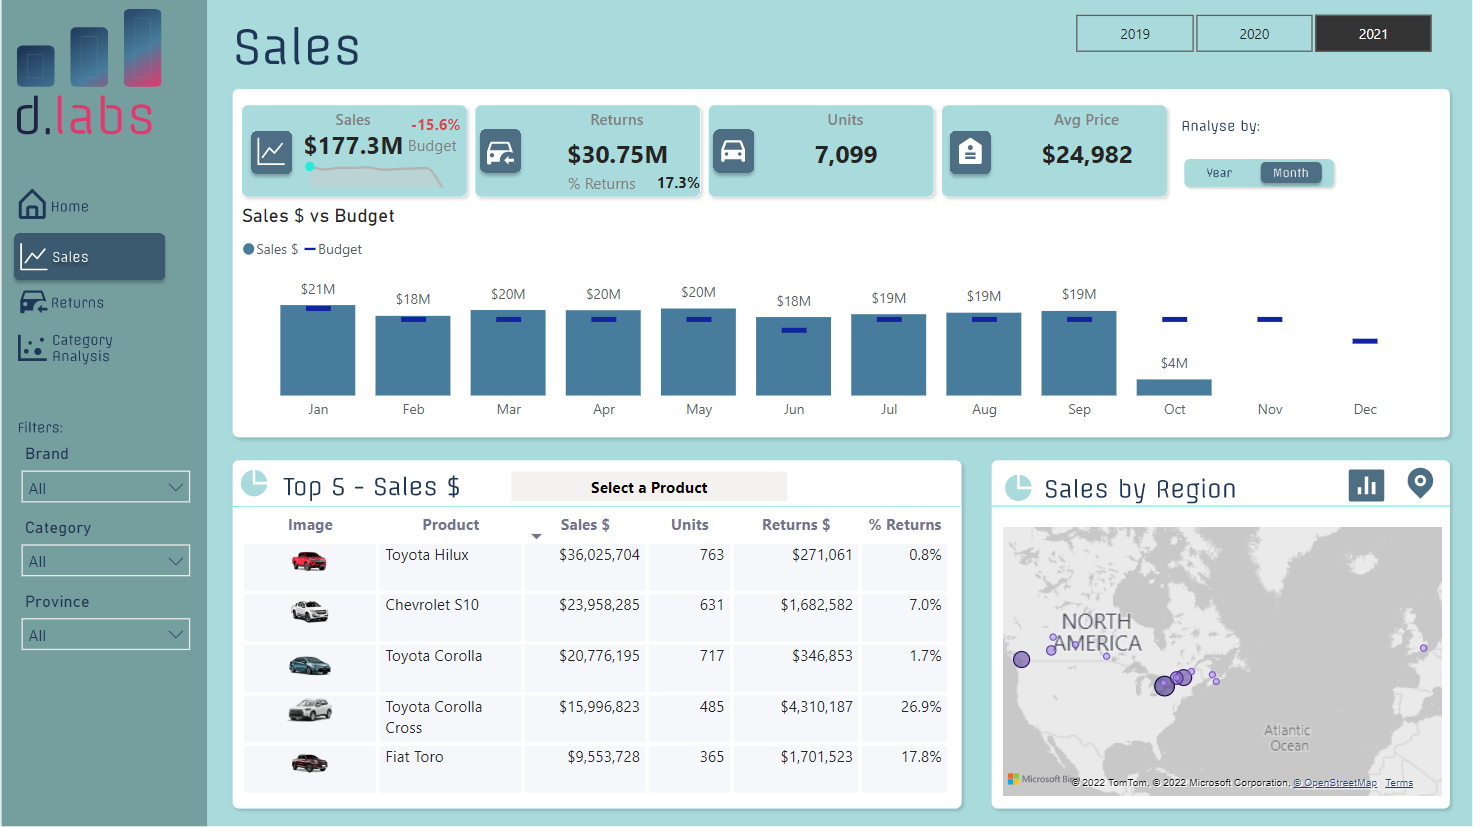

The page's visual inventory and layout, read from the dashboard file:
{"tool":"powerbi","page":{"name":"Sales","canvas":[1280,720],"ordinal":1},"visuals":[{"type":"card","title":"Sales","fields":{"Values":["Measures (2).Sales $"]},"box":[250.5,94.5,111.5,49.5],"z":0},{"type":"card","title":"Sales","fields":{"Values":["Measures (2).% Sales vs Budget"]},"box":[349.5,95,56,33],"z":1000},{"type":"textbox","box":[344,111.5,61.5,32.5],"z":2000},{"type":"card","title":"Returns","fields":{"Values":["Measures (2).Returns $"]},"box":[456.8,94.7,156.8,64.2],"z":3000},{"type":"PBI_CV_25997FEB_F466_44FA_B562_AC4063283C4C","fields":{"axis":["dCalendar.Month mmm"],"measure":["Measures (2).Sales $"]},"box":[250.6,128.4,155,45.2],"z":4000},{"type":"card","title":"Sales","fields":{"Values":["Measures (2).%Returns"]},"box":[563.7,145,50.5,32.6],"z":5000},{"type":"textbox","box":[470.5,145,104.2,32.6],"z":6000},{"type":"card","title":"Units","fields":{"Values":["Measures (2).Units"]},"box":[655.8,94.7,156.8,64.2],"z":7000},{"type":"card","title":"Avg Price","fields":{"Values":["Measures (2).Average Price"]},"box":[865.3,94.7,156.8,64.2],"z":8000},{"type":"tableEx","fields":{"Values":["dProdutos.ImagemProduto","dProdutos.NomeProduto","Measures (2).Sales $","Measures (2).Units","Measures (2).Returns $","Measures (2).%Returns"]},"box":[206,441,629,257],"z":9000},{"type":"map","fields":{"Category":["dClientes.Cidade"],"Size":["Measures (2).Sales $"]},"box":[865.3,453.7,392.6,244.2],"z":10000},{"type":"actionButton","title":"BChart","box":[1170.8,406.7,34.2,34.2],"z":12000},{"type":"actionButton","title":"BMap","box":[1216.7,406.7,34.2,34.2],"z":13000},{"type":"actionButton","box":[444,411,240,25.3],"z":14000},{"type":"actionButton","box":[11.8,158.2,80,40],"z":15000},{"type":"actionButton","box":[11.8,247.3,80,33.6],"z":16000},{"type":"slicer","fields":{"Values":["dProdutos.Brand"]},"box":[8,381,167,61],"z":17000},{"type":"slicer","fields":{"Values":["dProdutos.Category"]},"box":[8,445,167,61],"z":18000},{"type":"slicer","fields":{"Values":["dClientes.Province"]},"box":[8,509,167,61],"z":19000},{"type":"lineClusteredColumnComboChart","title":"Sales $ vs Budget","fields":{"Category":["dCalendar.Month mmm"],"Y":["Measures (2).Sales $"],"Y2":["Measures (2).Budget"]},"box":[204.6,178,1053,197.5],"z":20000},{"type":"slicer","title":"SlicerY","fields":{"Values":["dCalendar.Year"]},"box":[909.5,7.4,358.9,46.3],"z":22000},{"type":"image","title":"M Image","box":[1022.7,127.3,145,50],"z":24000},{"type":"actionButton","title":"Year Button","box":[1032.7,137.3,56.4,30],"z":26000},{"type":"actionButton","title":"Month Button","box":[1095.5,135.5,56.4,30],"z":27000},{"type":"actionButton","box":[12,288,133,34],"z":28000}]}

Visuals, with their boxes on the page's 1280x720 design canvas (x1, y1, x2, y2). These are canvas units, not pixel positions in the 1473x827 screenshot, which may show the page scaled, cropped or inside an application window:
"Sales" card: x1=250 y1=94 x2=362 y2=144
"Sales" card: x1=350 y1=95 x2=406 y2=128
textbox: x1=344 y1=112 x2=406 y2=144
"Returns" card: x1=457 y1=95 x2=614 y2=159
PBI_CV_25997FEB_F466_44FA_B562_AC4063283C4C - dCalendar.Month mmm x Measures (2).Sales $: x1=251 y1=128 x2=406 y2=174
"Sales" card: x1=564 y1=145 x2=614 y2=178
textbox: x1=470 y1=145 x2=575 y2=178
"Units" card: x1=656 y1=95 x2=813 y2=159
"Avg Price" card: x1=865 y1=95 x2=1022 y2=159
tableEx - dProdutos.ImagemProduto x dProdutos.NomeProduto: x1=206 y1=441 x2=835 y2=698
map - dClientes.Cidade x Measures (2).Sales $: x1=865 y1=454 x2=1258 y2=698
"BChart" actionButton: x1=1171 y1=407 x2=1205 y2=441
"BMap" actionButton: x1=1217 y1=407 x2=1251 y2=441
actionButton: x1=444 y1=411 x2=684 y2=436
actionButton: x1=12 y1=158 x2=92 y2=198
actionButton: x1=12 y1=247 x2=92 y2=281
slicer - dProdutos.Brand: x1=8 y1=381 x2=175 y2=442
slicer - dProdutos.Category: x1=8 y1=445 x2=175 y2=506
slicer - dClientes.Province: x1=8 y1=509 x2=175 y2=570
"Sales $ vs Budget" lineClusteredColumnComboChart: x1=205 y1=178 x2=1258 y2=376
"SlicerY" slicer: x1=910 y1=7 x2=1268 y2=54
"M Image" image: x1=1023 y1=127 x2=1168 y2=177
"Year Button" actionButton: x1=1033 y1=137 x2=1089 y2=167
"Month Button" actionButton: x1=1096 y1=136 x2=1152 y2=166
actionButton: x1=12 y1=288 x2=145 y2=322
